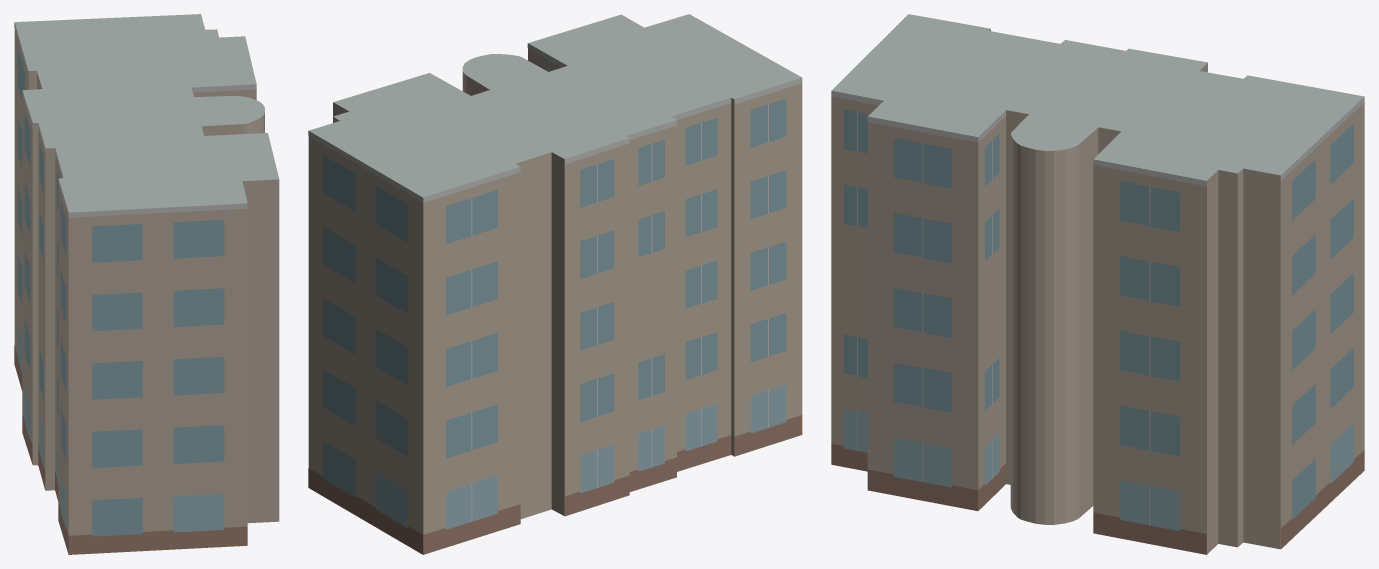
File: survey-upis-33016010.glb
3 renders of one model, left to right at view 1: azimuth 30°, elevation 25°; view 2: azimuth 150°, elevation 25°; view 3: azimuth 270°, elevation 25°, orthographic. The views are drawn at different scales.
Parts seen in each view (by area): view 1: survey-upis-33016010.tmp; view 2: survey-upis-33016010.tmp; view 3: survey-upis-33016010.tmp.
Part boxes in pixels (x1,y1,x2,y2): survey-upis-33016010.tmp: [14, 14, 279, 554]; survey-upis-33016010.tmp: [308, 14, 802, 554]; survey-upis-33016010.tmp: [831, 14, 1364, 554].
Size of the model in its own units: 15.52 by 16.2 by 20.95.
